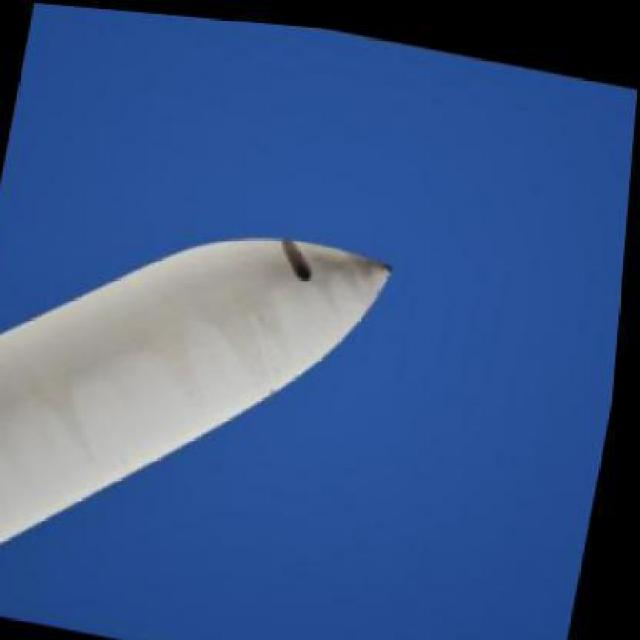Burn Mark: (277, 227, 321, 279), (348, 255, 393, 282)
